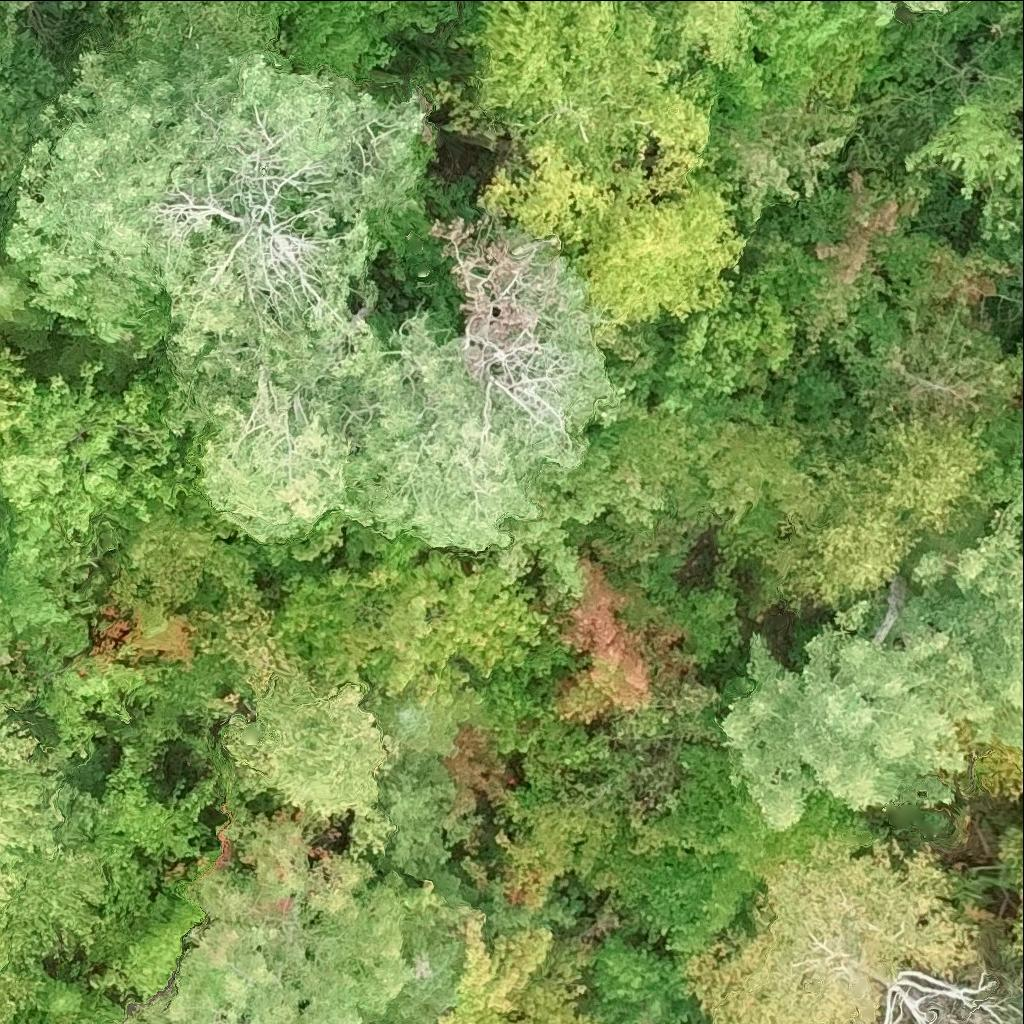crown: (4, 50, 431, 390), (322, 224, 662, 594), (721, 484, 1023, 832), (472, 0, 714, 253), (682, 840, 981, 1023), (736, 167, 1008, 359), (673, 0, 897, 222), (755, 424, 985, 625), (268, 546, 549, 697), (0, 361, 202, 549), (222, 664, 396, 859), (178, 369, 356, 542), (559, 181, 741, 349), (632, 772, 868, 878), (94, 482, 253, 638), (659, 291, 812, 452), (552, 549, 692, 724), (833, 313, 1018, 436), (85, 761, 220, 921), (903, 71, 1023, 239), (607, 834, 758, 953), (267, 0, 456, 87), (113, 650, 248, 771), (491, 792, 620, 910), (0, 705, 68, 923), (39, 651, 175, 760), (434, 910, 550, 1023), (128, 0, 283, 77), (572, 934, 687, 1023), (0, 505, 102, 588), (0, 615, 91, 708), (440, 720, 517, 824), (504, 936, 595, 1023), (650, 0, 756, 60), (0, 573, 101, 632), (0, 259, 55, 359), (12, 975, 126, 1023), (112, 611, 202, 667), (346, 515, 432, 569), (1002, 822, 1023, 956), (0, 346, 28, 427), (874, 0, 949, 28), (996, 210, 1023, 263), (1004, 66, 1023, 132), (0, 80, 26, 114), (1004, 347, 1023, 382), (0, 928, 9, 967), (0, 28, 11, 56)
